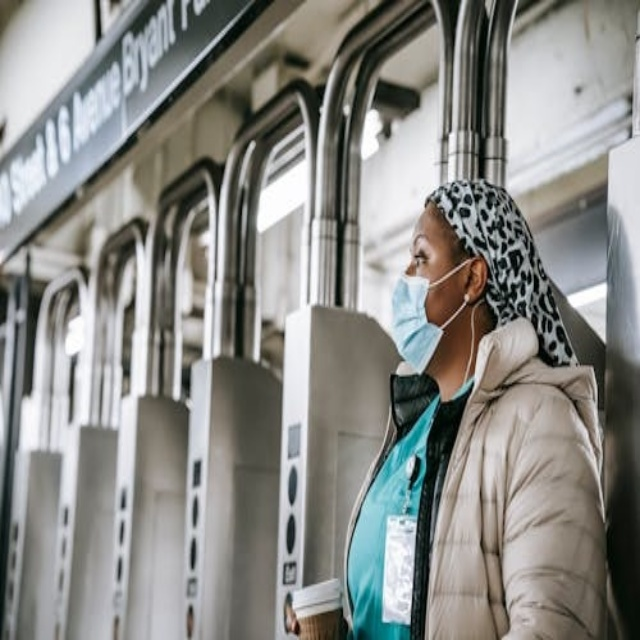Mascara: (390, 260, 458, 374)
Sin_gafas: (408, 229, 457, 271)
